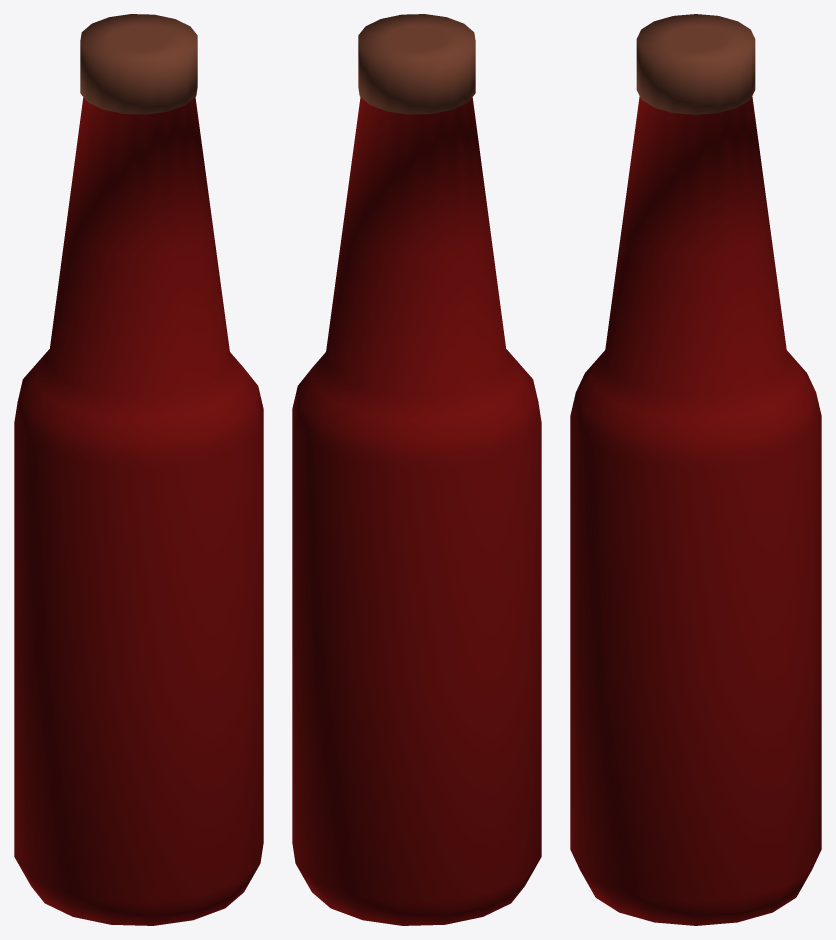
The model's file is Garrafa.fbx.
3 renders of one model, left to right at view 1: azimuth 30°, elevation 25°; view 2: azimuth 150°, elevation 25°; view 3: azimuth 270°, elevation 25°, orthographic.
Parts seen in each view (by area): view 1: Garrafa; view 2: Garrafa; view 3: Garrafa.
Part boxes in pixels (x1,y1,x2,y2): Garrafa: (14, 14, 263, 925); Garrafa: (292, 14, 541, 925); Garrafa: (570, 14, 821, 925).
Bounding box in the file's own units: 111 × 410 × 111.
